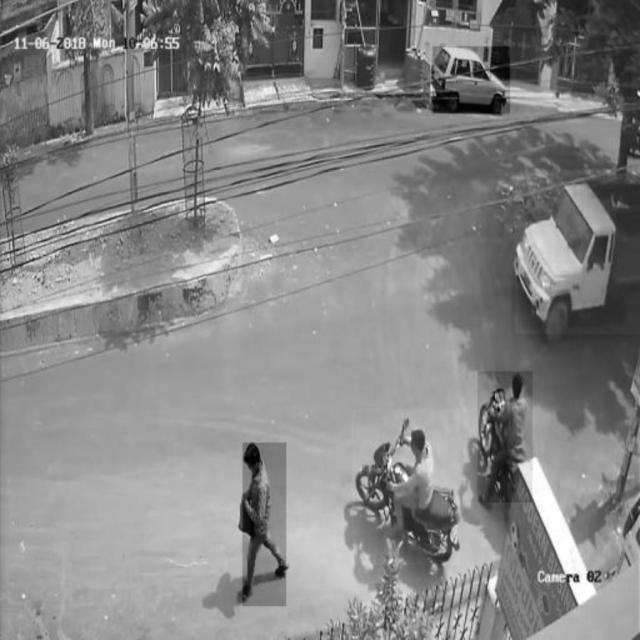person: (243, 442, 287, 606)
vehicle: (515, 173, 639, 333), (352, 409, 460, 565), (478, 371, 533, 502), (433, 46, 510, 113)
